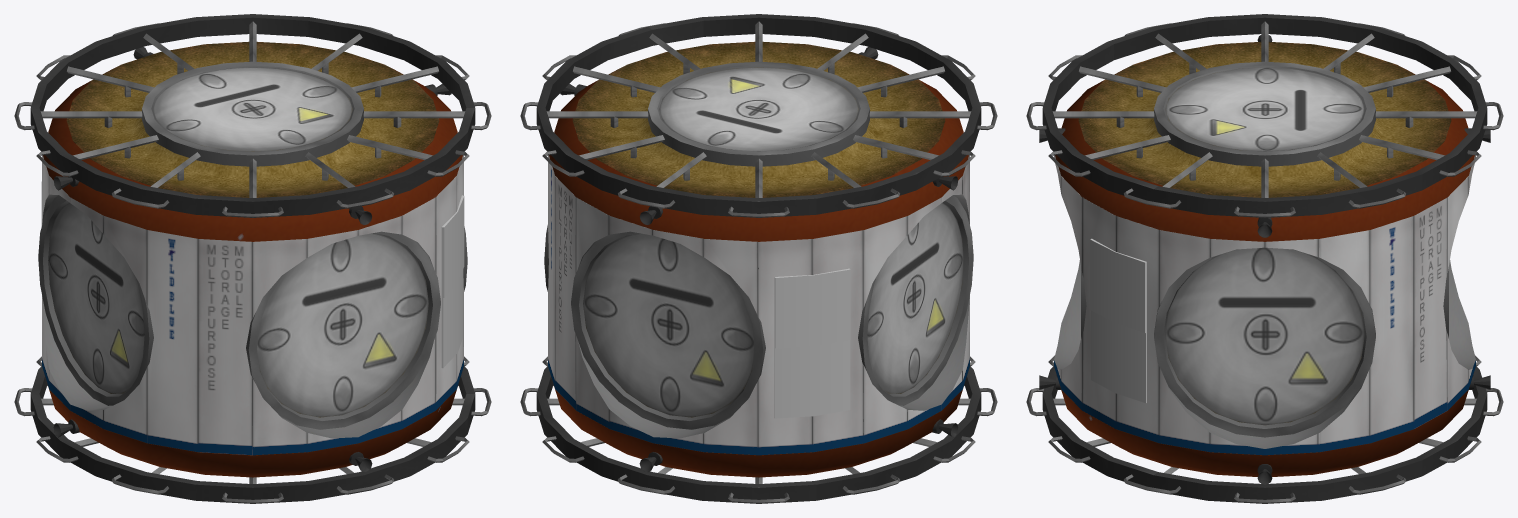
Rendered from MSMAlt.FBX.
The picture shows the model from 3 angles, left to right: view 1: azimuth 30°, elevation 25°; view 2: azimuth 150°, elevation 25°; view 3: azimuth 270°, elevation 25°; orthographic projection.
Parts seen in each view (by area): view 1: EndCap001, MainBody002, NodePort005, StructuralRing001, NodePort008, StructuralRing002, EndCap002, logoPanel003, logoPanel004, Brace009, Brace003, Brace002 (+3 smaller); view 2: EndCap001, MainBody002, NodePort007, StructuralRing001, NodePort008, StructuralRing002, EndCap002, logoPanel001, logoPanel002, Brace005, Brace011, Brace006 (+3 smaller); view 3: EndCap001, MainBody002, NodePort006, StructuralRing001, StructuralRing002, EndCap002, logoPanel003, logoPanel004, Brace001, Brace007, Brace006, Brace002 (+2 smaller).
Boxes of the visible parts, left/top/right/bottom form: EndCap001: left=43, top=41, right=462, bottom=241; MainBody002: left=42, top=155, right=463, bottom=455; NodePort005: left=246, top=231, right=440, bottom=429; StructuralRing001: left=30, top=14, right=475, bottom=217; NodePort008: left=38, top=195, right=153, bottom=405; StructuralRing002: left=30, top=366, right=475, bottom=503; EndCap002: left=45, top=378, right=460, bottom=477; logoPanel003: left=441, top=195, right=464, bottom=297; logoPanel004: left=441, top=269, right=463, bottom=368; Brace009: left=363, top=111, right=465, bottom=118; Brace003: left=40, top=111, right=142, bottom=118; Brace002: left=67, top=66, right=154, bottom=92; EndCap001: left=549, top=41, right=968, bottom=241; MainBody002: left=548, top=155, right=969, bottom=455; NodePort007: left=571, top=231, right=765, bottom=429; StructuralRing001: left=536, top=14, right=981, bottom=217; NodePort008: left=858, top=195, right=973, bottom=405; StructuralRing002: left=536, top=366, right=981, bottom=503; EndCap002: left=551, top=378, right=966, bottom=477; logoPanel001: left=774, top=268, right=850, bottom=348; logoPanel002: left=774, top=340, right=850, bottom=418; Brace005: left=869, top=111, right=971, bottom=118; Brace011: left=546, top=111, right=648, bottom=118; Brace006: left=857, top=66, right=944, bottom=92; EndCap001: left=1055, top=41, right=1474, bottom=241; MainBody002: left=1054, top=155, right=1475, bottom=455; NodePort006: left=1154, top=247, right=1375, bottom=437; StructuralRing001: left=1042, top=14, right=1487, bottom=217; StructuralRing002: left=1042, top=366, right=1487, bottom=503; EndCap002: left=1060, top=386, right=1469, bottom=476; logoPanel003: left=1090, top=238, right=1146, bottom=332; logoPanel004: left=1091, top=310, right=1146, bottom=403; Brace001: left=1375, top=111, right=1477, bottom=118; Brace007: left=1052, top=111, right=1154, bottom=118; Brace006: left=1079, top=66, right=1166, bottom=92; Brace002: left=1363, top=66, right=1450, bottom=92.
Bounding box in the file's own units: 2.68 × 2.68 × 1.88.
